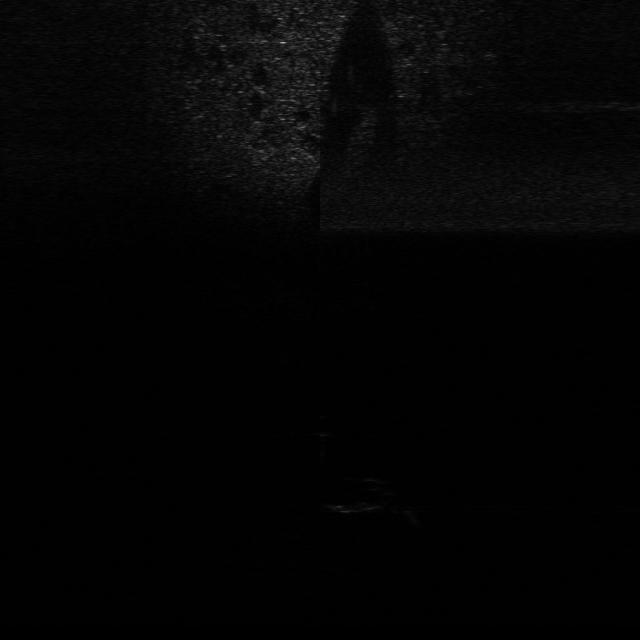ball: (304, 412, 342, 438)
tyre: (324, 473, 402, 518)
